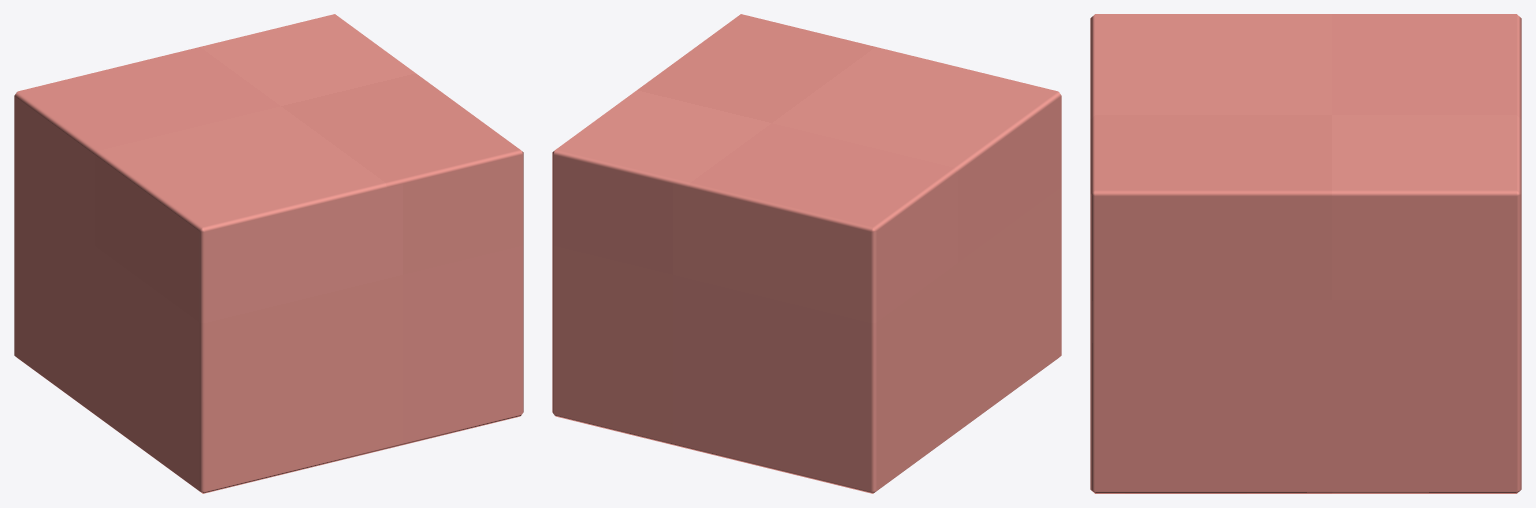
File: Rose-petal.glb
The picture shows the model from 3 angles, left to right: view 1: azimuth 30°, elevation 25°; view 2: azimuth 150°, elevation 25°; view 3: azimuth 270°, elevation 25°; orthographic projection. The views are drawn at different scales.
Visible parts, largest first — view 1: Rose-petal; view 2: Rose-petal; view 3: Rose-petal.
Boxes of the visible parts, bbox=[...] form: Rose-petal: bbox=[14, 14, 523, 493]; Rose-petal: bbox=[552, 14, 1061, 493]; Rose-petal: bbox=[1090, 14, 1521, 493].
Bounding box in the file's own units: 0.0632 × 0.0497 × 0.0639.
Materials: 1 (1 with a texture image).
